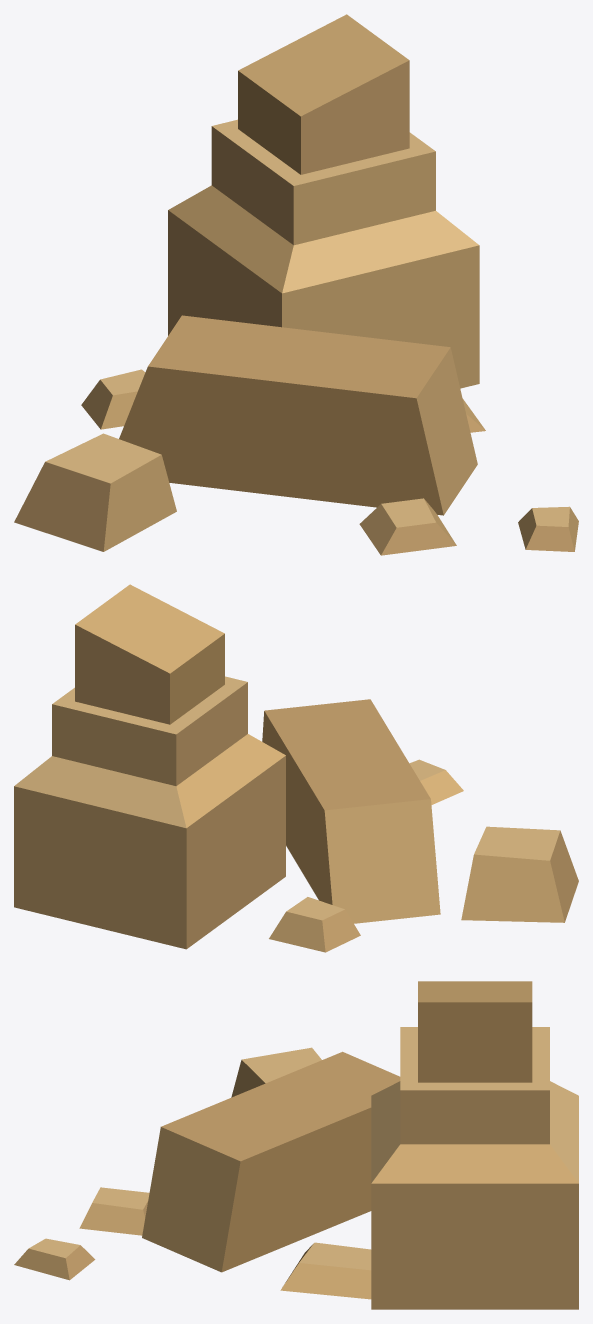
File: ST_Env_Pillar_03.fbx
3 views of the same model, one above another, from view 1: azimuth 30°, elevation 25°; view 2: azimuth 150°, elevation 25°; view 3: azimuth 270°, elevation 25° (orthographic). The views are drawn at different scales.
Parts seen in each view (by area): view 1: ST_Env_Pillar_03; view 2: ST_Env_Pillar_03; view 3: ST_Env_Pillar_03.
Part boxes in pixels (x1,y1,x2,y2): ST_Env_Pillar_03: [14, 14, 578, 555]; ST_Env_Pillar_03: [14, 584, 578, 952]; ST_Env_Pillar_03: [14, 981, 578, 1309].
Bounding box in the file's own units: 2.49 × 1.53 × 2.72.
